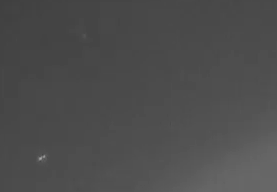Target: (40, 155, 45, 159)
